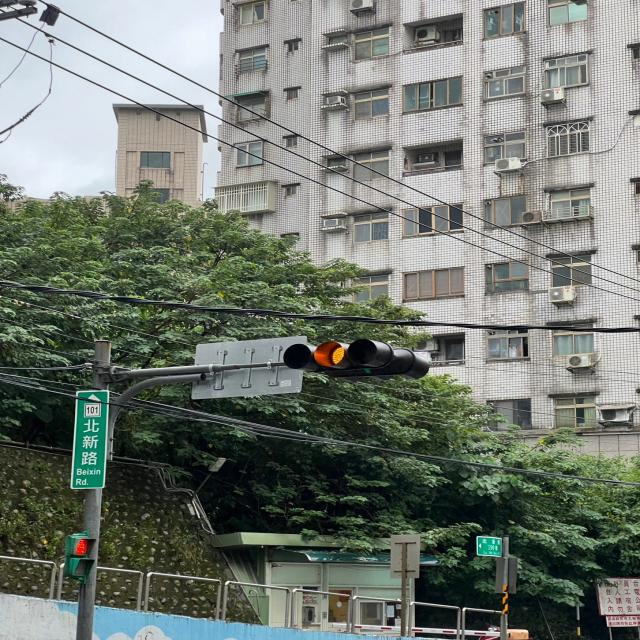yellow light: (282, 334, 389, 370)
